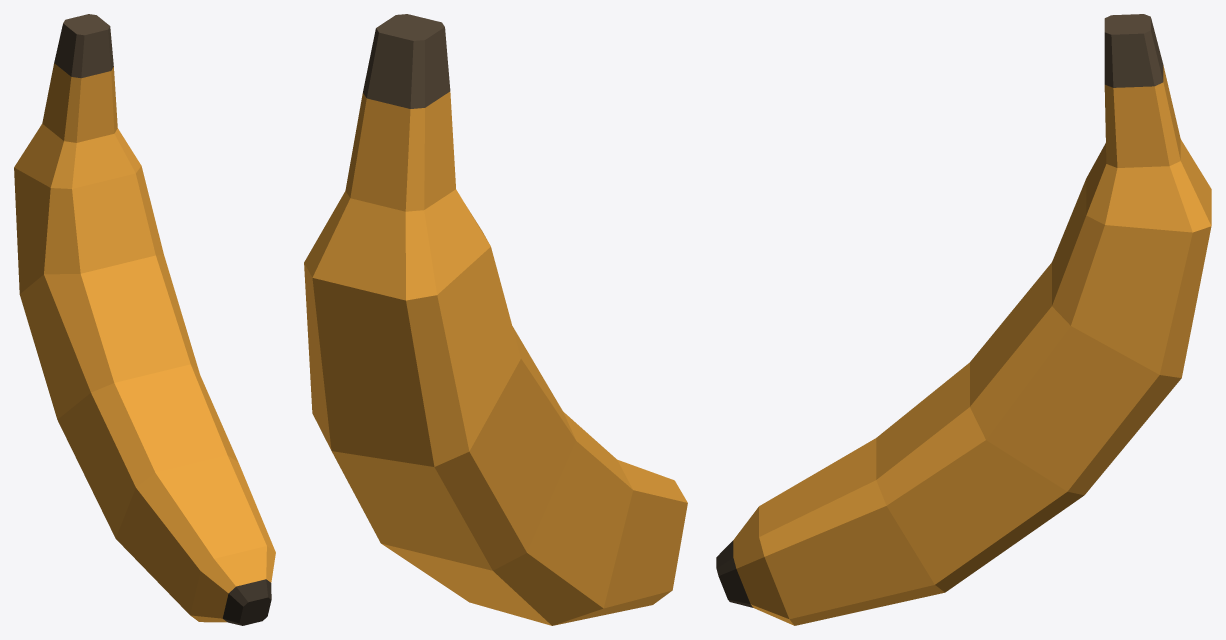
File: SM_Icon_Banana_01.fbx
The picture shows the model from 3 angles, left to right: view 1: azimuth 30°, elevation 25°; view 2: azimuth 150°, elevation 25°; view 3: azimuth 270°, elevation 25°; orthographic projection. The views are drawn at different scales.
Visible parts, largest first — view 1: SM_Icon_Banana_01; view 2: SM_Icon_Banana_01; view 3: SM_Icon_Banana_01.
Boxes of the visible parts, x1,y1,x2,y2 form: SM_Icon_Banana_01: [14, 14, 275, 625]; SM_Icon_Banana_01: [304, 14, 687, 625]; SM_Icon_Banana_01: [716, 14, 1211, 625].
Bounding box in the file's own units: 11.93 × 49.16 × 37.58.
